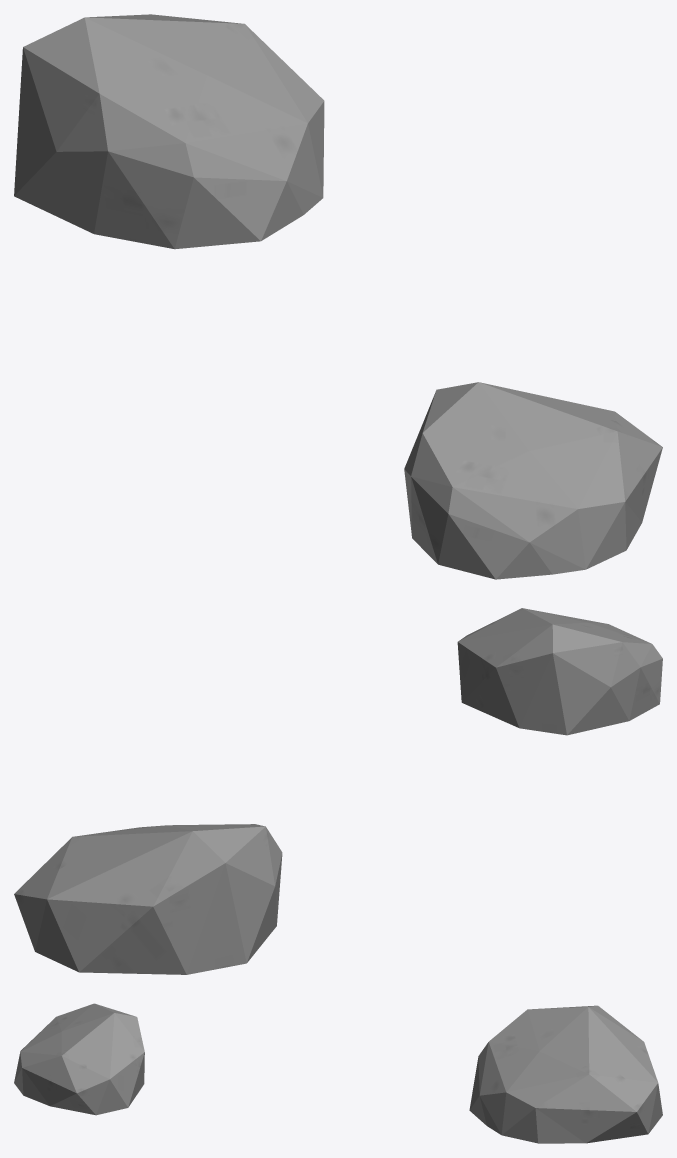
Rendered from Stones10.gltf.
3 renders of one model, top to bottom at view 1: azimuth 30°, elevation 25°; view 2: azimuth 150°, elevation 25°; view 3: azimuth 270°, elevation 25°, orthographic. The views are drawn at different scales.
Parts seen in each view (by area): view 1: Stone4 - copy.006, Stone4 - copy.008; view 2: Stone4 - copy.006, Stone4 - copy.008; view 3: Stone4 - copy.006, Stone4 - copy.008.
Part boxes in pixels (x1=…): Stone4 - copy.006: x1=14, y1=14, x2=324, y2=249; Stone4 - copy.008: x1=404, y1=382, x2=662, y2=579; Stone4 - copy.006: x1=14, y1=824, x2=282, y2=974; Stone4 - copy.008: x1=457, y1=608, x2=662, y2=735; Stone4 - copy.006: x1=469, y1=1005, x2=662, y2=1143; Stone4 - copy.008: x1=14, y1=1003, x2=144, y2=1115.
Bounding box in the file's own units: 2.44 × 1.13 × 7.62.
1 material, 1 textured.
